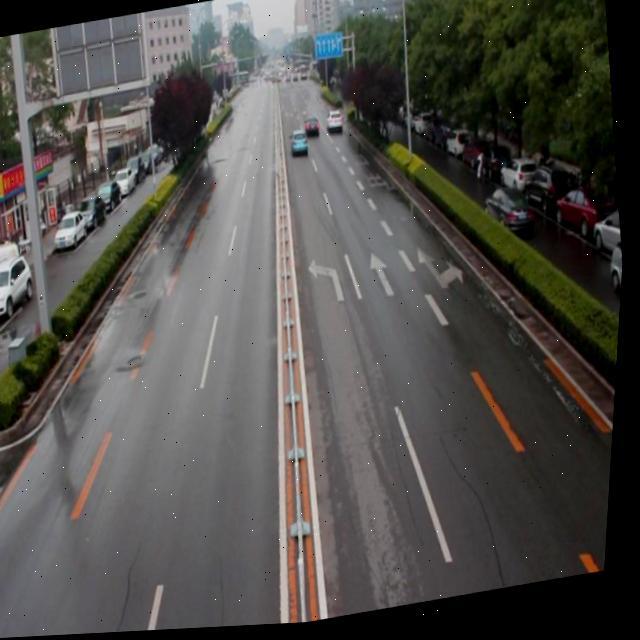car: (289, 129, 311, 158), (325, 110, 346, 135), (304, 118, 322, 140)
